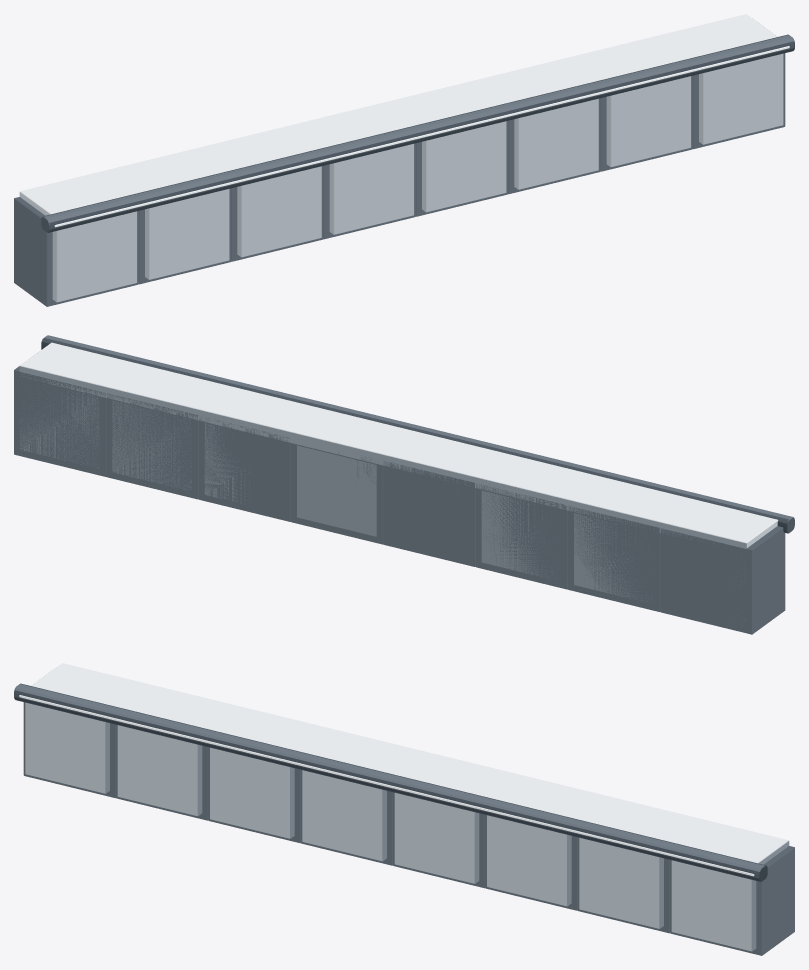
File: Terrain_TopRun8LR.gltf
The picture shows the model from 3 angles, top to bottom: view 1: azimuth 30°, elevation 25°; view 2: azimuth 150°, elevation 25°; view 3: azimuth 330°, elevation 25°; orthographic projection.
Parts seen in each view (by area): view 1: Terrain_TopRun8LR_baked; view 2: Terrain_TopRun8LR_baked; view 3: Terrain_TopRun8LR_baked.
Boxes of the visible parts, bbox=[...] form: Terrain_TopRun8LR_baked: bbox=[14, 14, 794, 306]; Terrain_TopRun8LR_baked: bbox=[14, 335, 794, 634]; Terrain_TopRun8LR_baked: bbox=[14, 663, 794, 955].
Size of the model in its own units: 8.08 by 0.9495 by 0.74.
